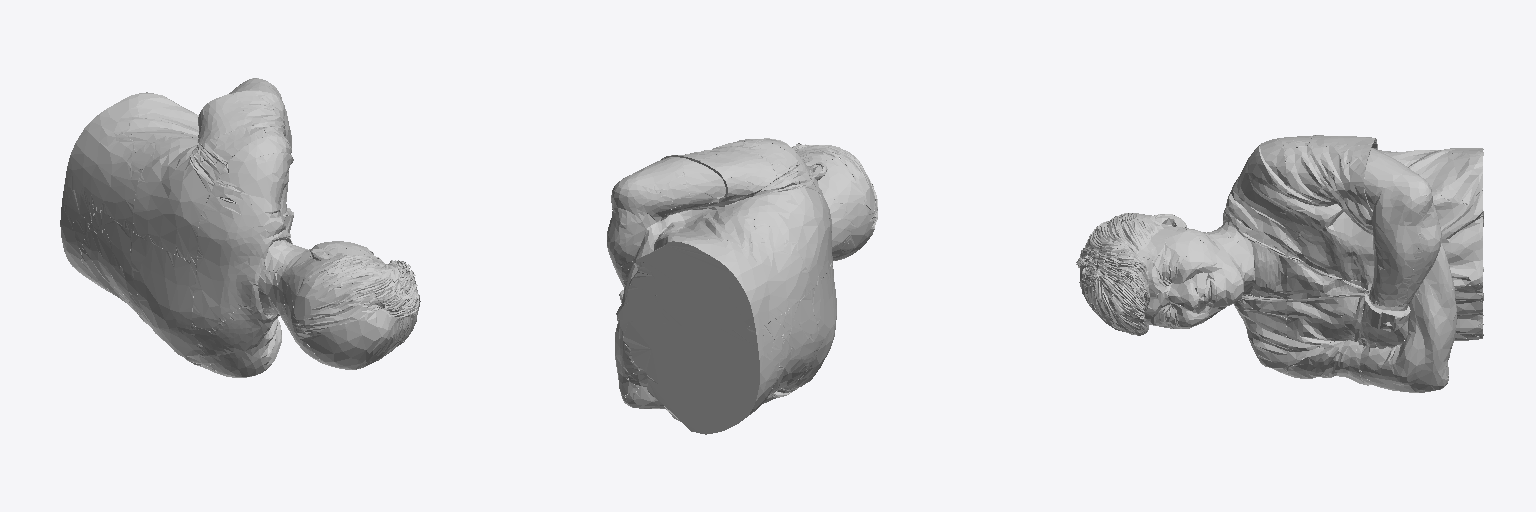
File: CGC.obj
3 views of the same model, side by side, from view 1: azimuth 30°, elevation 25°; view 2: azimuth 150°, elevation 25°; view 3: azimuth 270°, elevation 25° (orthographic).
Visible parts, largest first — view 1: tmp71j8j8_8.obj; view 2: tmp71j8j8_8.obj; view 3: tmp71j8j8_8.obj.
Boxes of the visible parts, x1=… form: tmp71j8j8_8.obj: x1=60, y1=78, x2=420, y2=377; tmp71j8j8_8.obj: x1=607, y1=138, x2=877, y2=434; tmp71j8j8_8.obj: x1=1076, y1=135, x2=1483, y2=392.
Bounding box in the file's own units: 0.926 × 1.16 × 1.74.